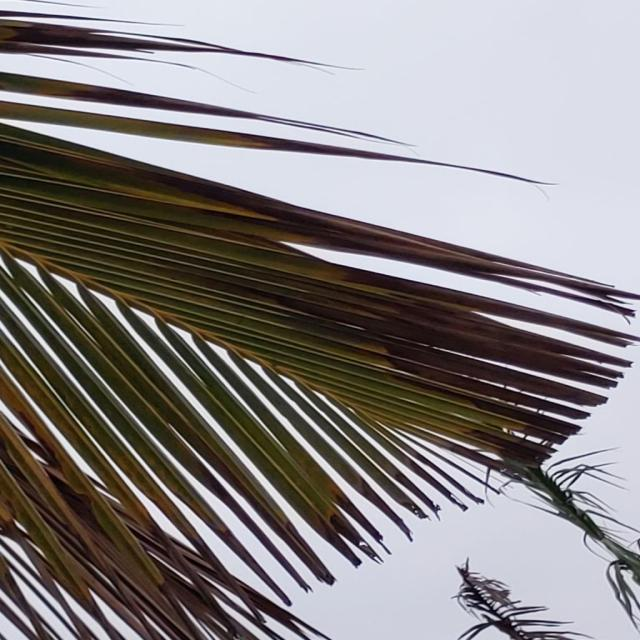gray leaf spot: (0, 124, 639, 640), (0, 17, 345, 69)
